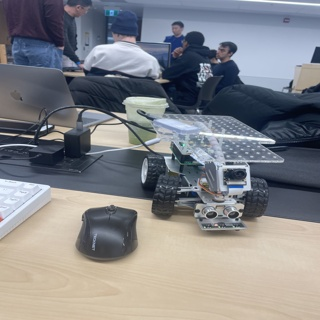vehicle: (137, 108, 282, 230)
